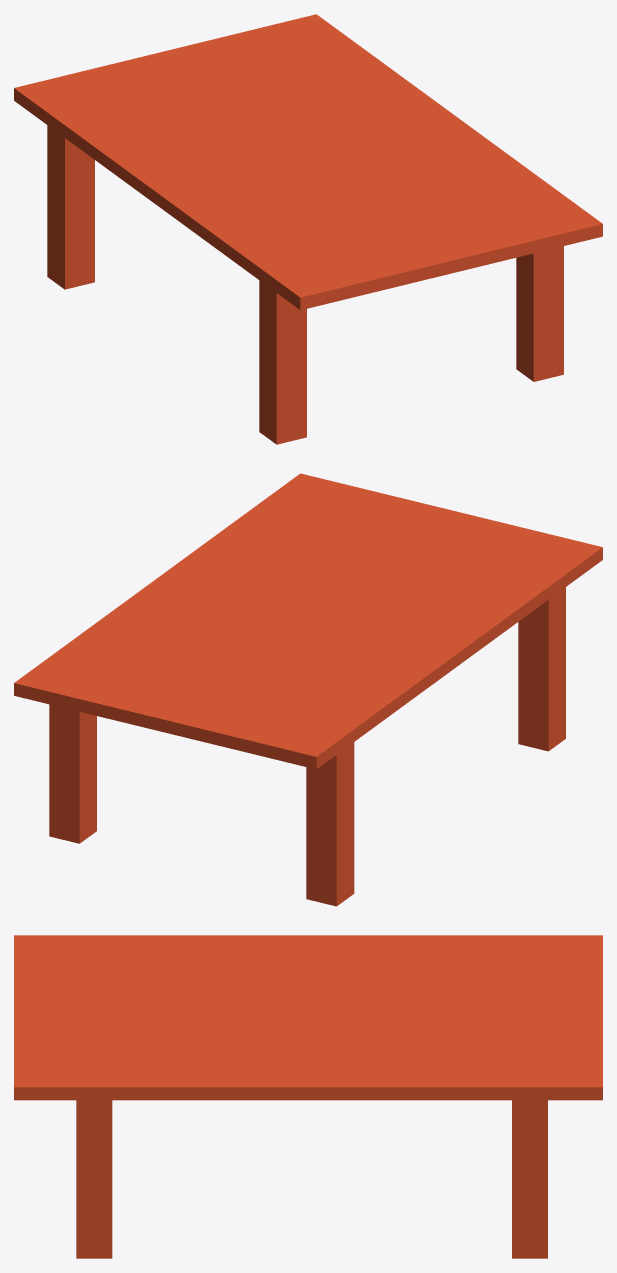
The model's file is mesa_bonita.glb.
3 renders of one model, top to bottom at view 1: azimuth 30°, elevation 25°; view 2: azimuth 150°, elevation 25°; view 3: azimuth 270°, elevation 25°, orthographic. The views are drawn at different scales.
Visible parts, largest first — view 1: Perna; view 2: Perna; view 3: Perna.
Boxes of the visible parts, left/top/right/bottom form: Perna: left=14, top=14, right=602, bottom=444; Perna: left=14, top=473, right=602, bottom=906; Perna: left=14, top=935, right=602, bottom=1258.
Size of the model in its own units: 5 by 2.7 by 8.2.
